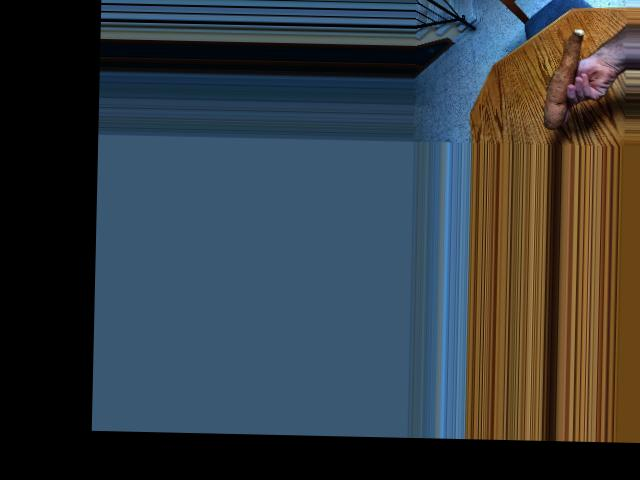sweet_potato: (536, 25, 584, 127)
